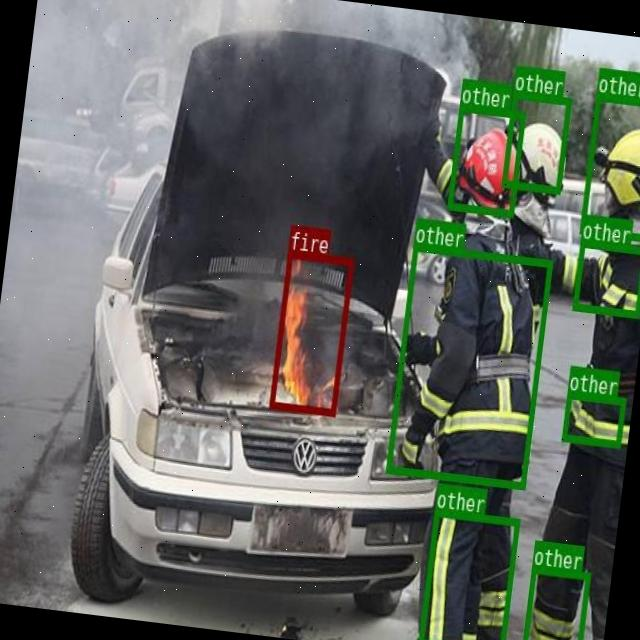fire: (268, 250, 353, 416)
